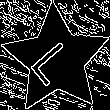L_NE: (28, 31, 84, 88)
